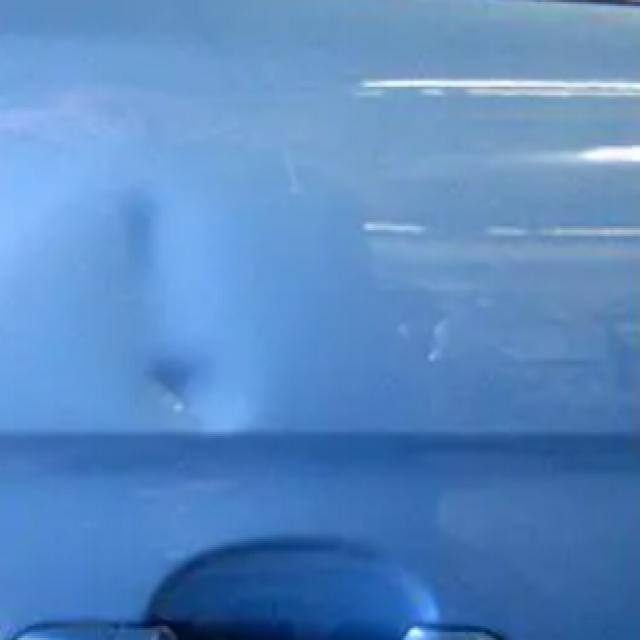dents: (81, 164, 292, 464)
